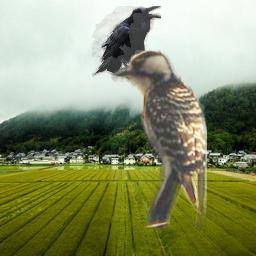Crow: (92, 6, 161, 77)
Woodpecker: (111, 49, 207, 228)
